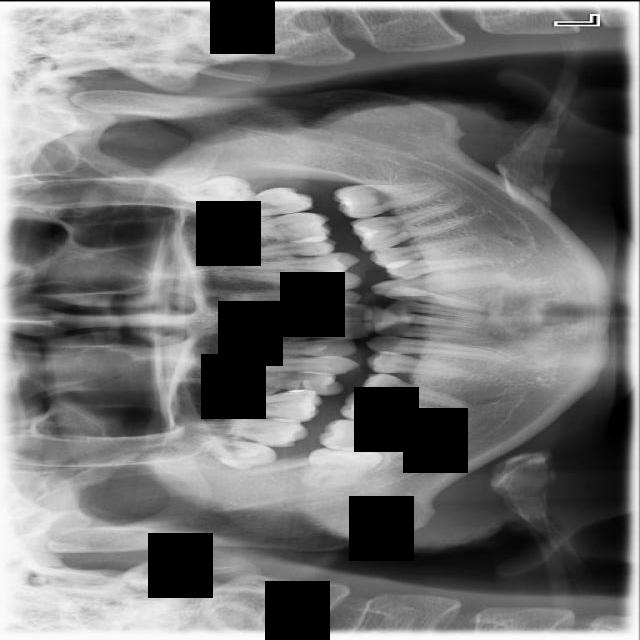3M ESPE Implant: (179, 428, 279, 476)
52: (334, 371, 401, 436), (327, 170, 389, 232), (347, 206, 404, 258)
73: (608, 12, 616, 22)
BioHorizons Implant: (200, 182, 315, 225)
BioLife Implant: (171, 175, 252, 203)
Blue Sky Bio Implant: (332, 176, 449, 220)
Caries: (190, 414, 309, 448)
Implant: (317, 416, 432, 457)
Keystone Dental Implant: (296, 433, 388, 495)
